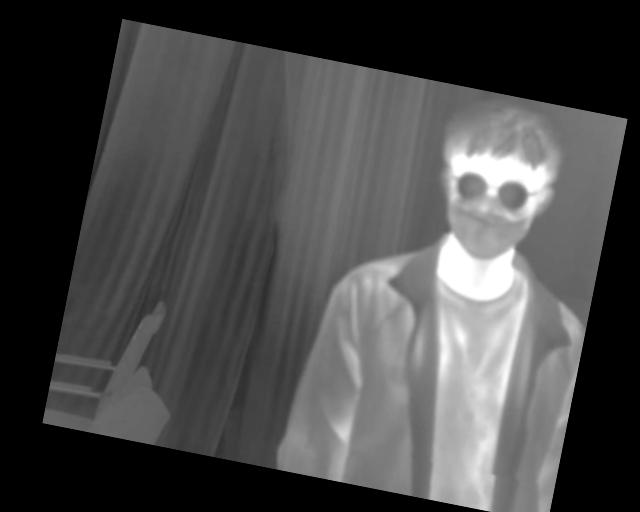face: (424, 93, 569, 271)
